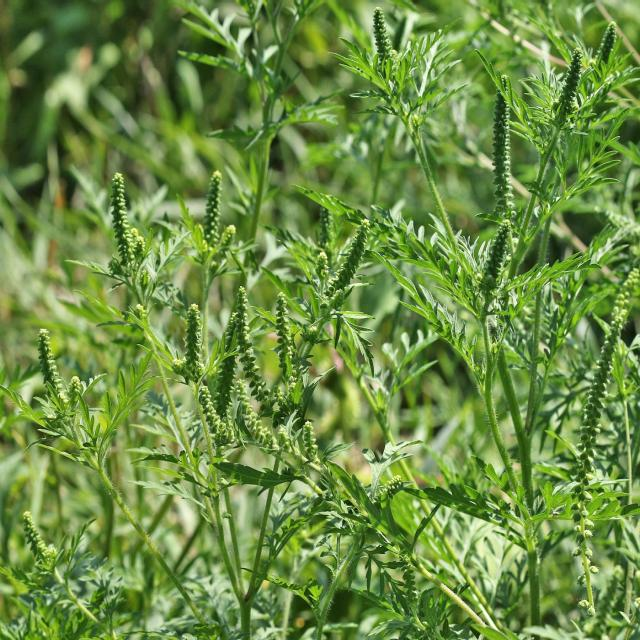ambrosia: (443, 64, 592, 308), (241, 193, 387, 433), (162, 368, 376, 522), (560, 259, 640, 552), (0, 304, 111, 486), (69, 146, 169, 334), (178, 143, 256, 351), (323, 0, 449, 108), (2, 488, 94, 612)
